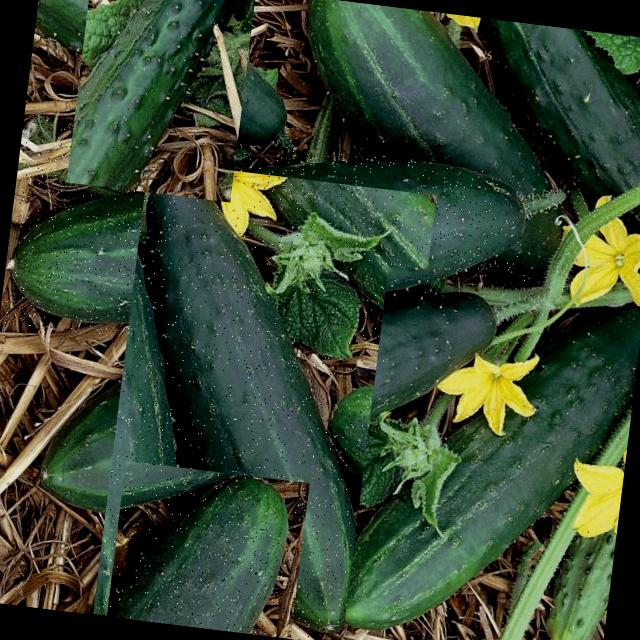Cucumber: (103, 195, 390, 636), (340, 278, 637, 640), (288, 0, 570, 207), (100, 464, 291, 636)
